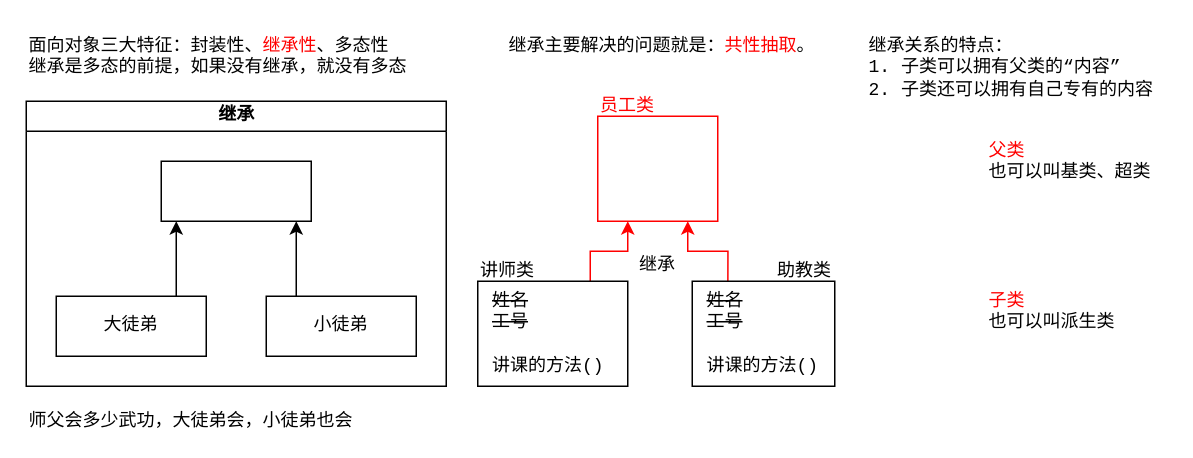
Some shapes in this 1193 by 458 pixel diagram are drawn without their labels. The centre of each missing label's shape, as x and y in pixels:
"姓名 工号" belongs at pixel 657 168.
"师傅" belongs at pixel 235 190.
